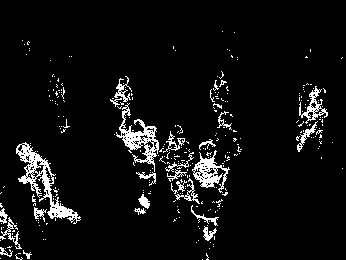person: (15, 141, 82, 242), (185, 140, 229, 260), (125, 119, 161, 216), (161, 125, 194, 222), (298, 85, 327, 161), (215, 110, 244, 169), (111, 72, 135, 133), (48, 73, 70, 135), (207, 75, 231, 117)
